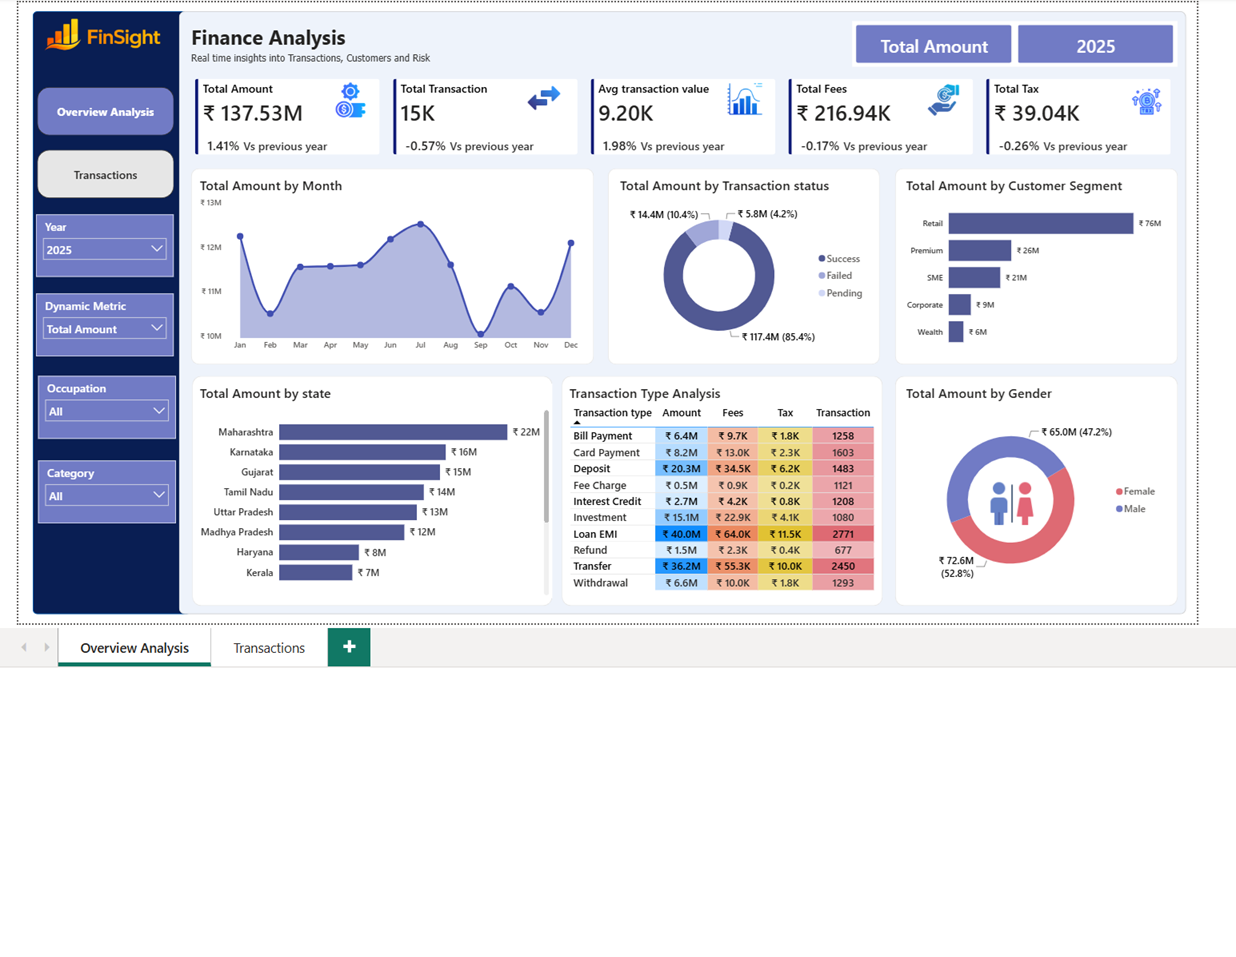

The dashboard page shown, as its layout file describes it:
{"tool":"powerbi","page":{"name":"Overview Analysis","canvas":[1800,950],"ordinal":0},"visuals":[{"type":"shape","box":[22,14,242,922],"z":0},{"type":"shape","box":[246,14,1538,922],"z":1000},{"type":"image","box":[22,14,218,72],"z":2000},{"type":"cardVisual","fields":{"Data":["finance_transactions.Name"]},"box":[246.7,13.3,858.3,98.3],"z":3000},{"type":"cardVisual","fields":{"Data":["finance_transactions.Total Amount","finance_transactions.Total Transaction","finance_transactions.Avg trans","finance_transactions.Total Fees","finance_transactions.Total Tax"]},"box":[263.3,111.7,1506.7,128.3],"z":4000},{"type":"slicer","fields":{"Values":["Date table.Year"]},"box":[27.6,324.3,210,95],"z":5000},{"type":"image","box":[478.3,123.3,56.7,53.3],"z":6000},{"type":"image","box":[776.7,116.7,53.3,60],"z":7000},{"type":"image","box":[1388.3,123.3,50,53.3],"z":8000},{"type":"image","box":[1081.7,120,55,56.7],"z":9000},{"type":"image","box":[1696.7,123.3,53.3,58.3],"z":10000},{"type":"slicer","fields":{"Values":["Dynamic Metric.Dynamic Metric"]},"box":[27.6,445.9,210.1,95.8],"z":11000},{"type":"cardVisual","fields":{"Data":["finance_transactions.Selected Dynamic Metric","finance_transactions.Selected Year"]},"box":[1273.3,28.3,496.7,70],"z":12000},{"type":"shape","box":[263.3,253.3,615,300],"z":13000},{"type":"areaChart","fields":{"Y":["finance_transactions.Total Amount"],"Category":["Date table.Month"]},"box":[271.7,265,595,276.7],"z":14000},{"type":"shape","box":[900,253.3,415,300],"z":15000},{"type":"donutChart","fields":{"Y":["finance_transactions.Total Amount"],"Category":["finance_transactions.transaction_status"]},"box":[913.3,265,390,276.7],"z":16000},{"type":"shape","box":[1338.3,253.3,431.7,300],"z":17000},{"type":"barChart","fields":{"Y":["finance_transactions.Total Amount"],"Category":["customers.customer_segment"]},"box":[1350,265,400,276.7],"z":18000},{"type":"shape","box":[265,571.7,550,351.7],"z":19000},{"type":"barChart","fields":{"Y":["finance_transactions.Total Amount"],"Category":["customers.state"]},"box":[271.7,583.3,543.3,328.3],"z":20000},{"type":"shape","title":"Transaction Type Analysis","box":[830,571.7,490,351.7],"z":21000},{"type":"tableEx","title":"Transaction Type Analysis","fields":{"Values":["finance_transactions.transaction_type","finance_transactions.Total Amount","finance_transactions.Total Fees","finance_transactions.Total Tax","finance_transactions.Total Transaction"]},"box":[836.7,583.3,478.3,328.3],"z":22000},{"type":"shape","box":[1338.3,571.7,431.7,351.7],"z":23000},{"type":"donutChart","fields":{"Y":["finance_transactions.Total Amount"],"Category":["customers.gender"]},"box":[1350,583.3,400,328.3],"z":24000},{"type":"image","box":[1480,721.7,75,88.3],"z":25000},{"type":"slicer","fields":{"Values":["customers.occupation"]},"box":[29.5,571.3,210.1,95.8],"z":26000},{"type":"slicer","fields":{"Values":["finance_transactions.merchant_category"]},"box":[29.5,700.2,210.1,95.8],"z":27000},{"type":"pageNavigator","box":[28.1,129.1,209.5,170.2],"z":28000}]}

Visuals, with their boxes on the page's 1800x950 design canvas (x1, y1, x2, y2). These are canvas units, not pixel positions in the 1236x957 screenshot, which may show the page scaled, cropped or inside an application window:
shape: pyautogui.locateOnScreen(22, 14, 264, 936)
shape: pyautogui.locateOnScreen(246, 14, 1784, 936)
image: pyautogui.locateOnScreen(22, 14, 240, 86)
cardVisual - finance_transactions.Name: pyautogui.locateOnScreen(247, 13, 1105, 112)
cardVisual - finance_transactions.Total Amount x finance_transactions.Total Transaction: pyautogui.locateOnScreen(263, 112, 1770, 240)
slicer - Date table.Year: pyautogui.locateOnScreen(28, 324, 238, 419)
image: pyautogui.locateOnScreen(478, 123, 535, 177)
image: pyautogui.locateOnScreen(777, 117, 830, 177)
image: pyautogui.locateOnScreen(1388, 123, 1438, 177)
image: pyautogui.locateOnScreen(1082, 120, 1137, 177)
image: pyautogui.locateOnScreen(1697, 123, 1750, 182)
slicer - Dynamic Metric.Dynamic Metric: pyautogui.locateOnScreen(28, 446, 238, 542)
cardVisual - finance_transactions.Selected Dynamic Metric x finance_transactions.Selected Year: pyautogui.locateOnScreen(1273, 28, 1770, 98)
shape: pyautogui.locateOnScreen(263, 253, 878, 553)
areaChart - finance_transactions.Total Amount x Date table.Month: pyautogui.locateOnScreen(272, 265, 867, 542)
shape: pyautogui.locateOnScreen(900, 253, 1315, 553)
donutChart - finance_transactions.Total Amount x finance_transactions.transaction_status: pyautogui.locateOnScreen(913, 265, 1303, 542)
shape: pyautogui.locateOnScreen(1338, 253, 1770, 553)
barChart - finance_transactions.Total Amount x customers.customer_segment: pyautogui.locateOnScreen(1350, 265, 1750, 542)
shape: pyautogui.locateOnScreen(265, 572, 815, 923)
barChart - finance_transactions.Total Amount x customers.state: pyautogui.locateOnScreen(272, 583, 815, 912)
"Transaction Type Analysis" shape: pyautogui.locateOnScreen(830, 572, 1320, 923)
"Transaction Type Analysis" tableEx: pyautogui.locateOnScreen(837, 583, 1315, 912)
shape: pyautogui.locateOnScreen(1338, 572, 1770, 923)
donutChart - finance_transactions.Total Amount x customers.gender: pyautogui.locateOnScreen(1350, 583, 1750, 912)
image: pyautogui.locateOnScreen(1480, 722, 1555, 810)
slicer - customers.occupation: pyautogui.locateOnScreen(30, 571, 240, 667)
slicer - finance_transactions.merchant_category: pyautogui.locateOnScreen(30, 700, 240, 796)
pageNavigator: pyautogui.locateOnScreen(28, 129, 238, 299)
